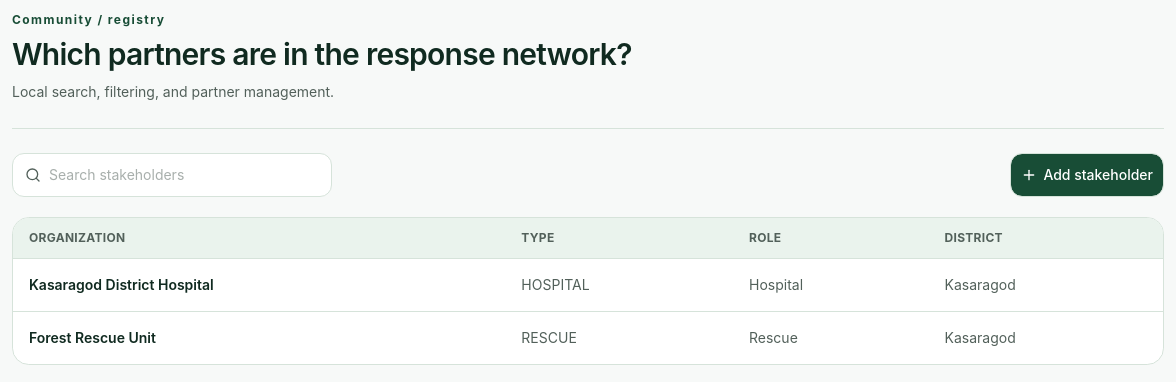
StakeholderWorkspace — live registry › filters the table as the search box is typed into
Expected: the text "Kasaragod District Hospital" is shown, [13, 258, 505, 312]
Type "Forest" into the field labelled "Search stakeholders" at point(184, 175), box [49, 165, 319, 185]
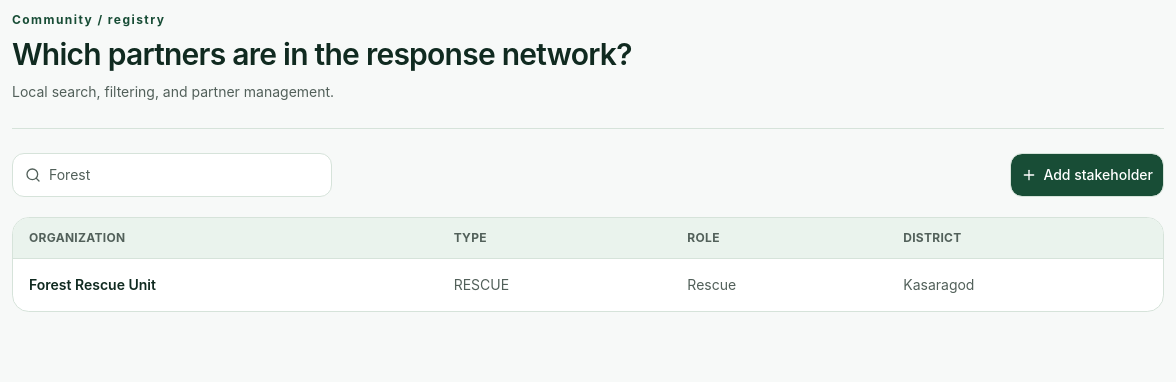
Expected: the text "Forest Rescue Unit" is shown, [13, 258, 438, 311]
Now the text "Kasaragod District Hospital" is gone
